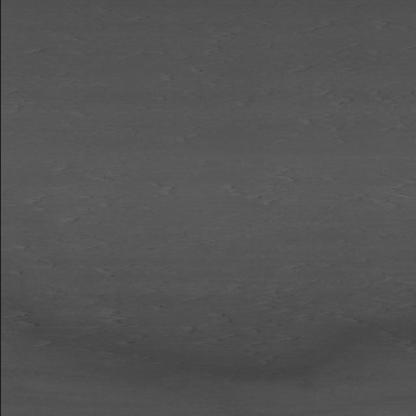silk_spot: (64, 299, 282, 362), (34, 170, 119, 227)
